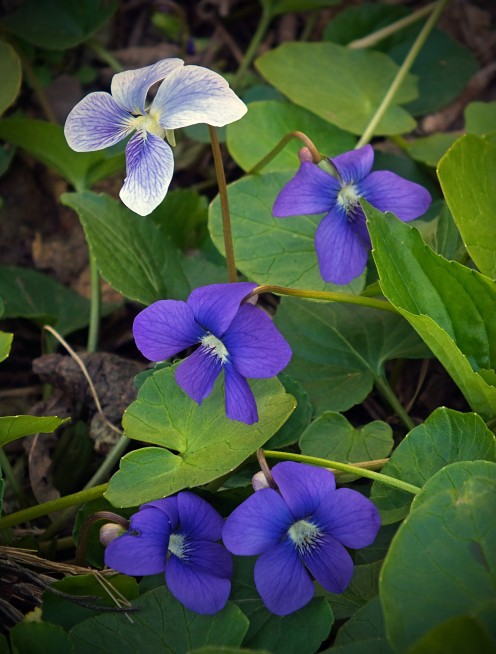violet: (121, 273, 311, 435), (59, 44, 238, 209), (218, 445, 381, 622), (281, 141, 436, 295), (91, 489, 253, 629)
